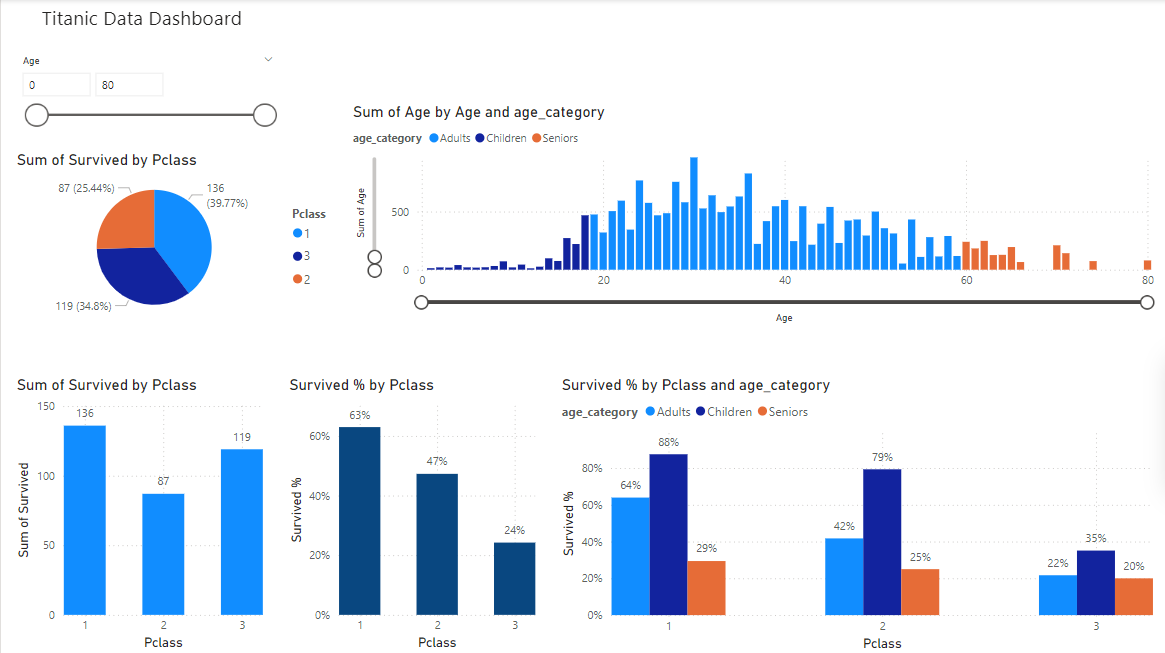

The page's visual inventory and layout, read from the dashboard file:
{"tool":"powerbi","page":{"name":"Page 1","canvas":[1280,720],"ordinal":0},"visuals":[{"type":"columnChart","fields":{"Category":["Sheet1.Pclass"],"Y":["Sum(Sheet1.Survived)"]},"box":[12.7,412.7,280.3,307],"z":0},{"type":"columnChart","fields":{"Category":["Sheet1.Pclass"],"Y":["Sheet1.Survived %"]},"box":[311.3,412.7,280.3,307],"z":1000},{"type":"clusteredColumnChart","fields":{"Category":["Sheet1.Pclass"],"Y":["Sheet1.Survived %"],"Series":["Sheet1.age_category"]},"box":[611.3,412.7,659.2,307],"z":1001},{"type":"pieChart","fields":{"Category":["Sheet1.Pclass"],"Y":["Sum(Sheet1.Survived)"]},"box":[12.7,166.2,369,194.4],"z":1002},{"type":"columnChart","fields":{"Category":["Sheet1.Age"],"Y":["Sum(Sheet1.Age)"],"Series":["Sheet1.age_category"]},"box":[381.7,114.1,888.7,246.5],"z":1003},{"type":"slicer","fields":{"Values":["Sheet1.Age"]},"box":[11.3,56.3,300,94.4],"z":1004},{"type":"textbox","box":[39.4,0,271.8,56.3],"z":1005}]}

Visuals, with their boxes in screenshot pixels (x1, y1, x2, y2), scaled from the page's 1280x720 canvas onto the 1165x653 screenshot:
columnChart - Sheet1.Pclass x Sum(Sheet1.Survived): bbox=[12, 374, 267, 652]
columnChart - Sheet1.Pclass x Sheet1.Survived %: bbox=[283, 374, 538, 652]
clusteredColumnChart - Sheet1.Pclass x Sheet1.Survived %: bbox=[556, 374, 1156, 652]
pieChart - Sheet1.Pclass x Sum(Sheet1.Survived): bbox=[12, 151, 347, 327]
columnChart - Sheet1.Age x Sum(Sheet1.Age): bbox=[347, 103, 1156, 327]
slicer - Sheet1.Age: bbox=[10, 51, 283, 137]
textbox: bbox=[36, 0, 283, 51]
